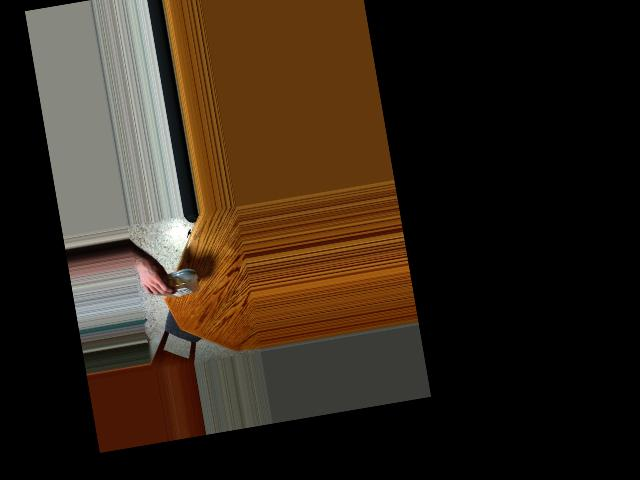cheese: (156, 250, 202, 308)
